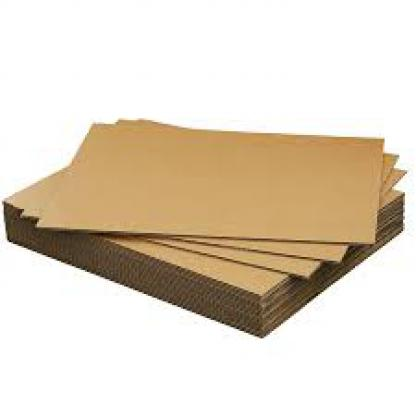CARDBOARD: (0, 168, 403, 338), (17, 116, 398, 262), (0, 166, 405, 283), (33, 120, 383, 248)
